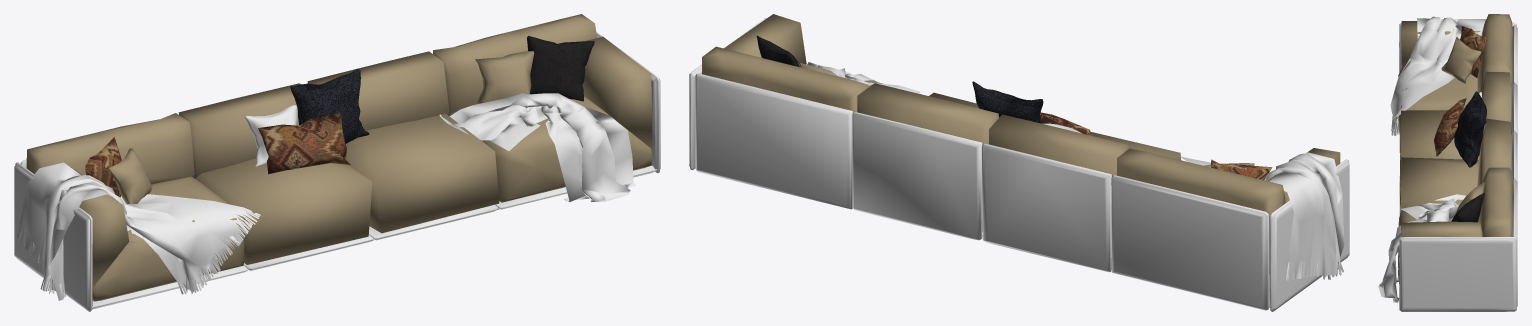
File: COUCH.fbx
3 renders of one model, left to right at view 1: azimuth 30°, elevation 25°; view 2: azimuth 150°, elevation 25°; view 3: azimuth 270°, elevation 25°, orthographic. The views are drawn at different scales.
Parts seen in each view (by area): view 1: Sofa, throw, Sofa.003, Sofa.004, throw.001, Sofa.001, Sofa.002, Sofa.005, cushion.004, Sofa.008, cushion.003, cushion.006 (+4 smaller); view 2: Sofa.006, Sofa.007, Sofa.004, Sofa.003, throw, Sofa.005, Sofa.002, cushion.006, Sofa, cushion.003, cushion.002, throw.001; view 3: Sofa.005, Sofa, throw, Sofa.004, Sofa.003, Sofa.002, throw.001, Sofa.001, cushion.006, cushion.001, cushion.004, Sofa.006 (+4 smaller).
Part boxes in pixels (<box>): Sofa: <box>195,114,499,264</box>; throw: <box>17,162,260,300</box>; Sofa.003: <box>178,51,449,178</box>; Sofa.004: <box>26,14,596,184</box>; throw.001: <box>439,93,635,201</box>; Sofa.001: <box>92,96,651,301</box>; Sofa.002: <box>70,36,652,285</box>; Sofa.005: <box>14,32,660,311</box>; cushion.004: <box>258,113,350,174</box>; Sofa.008: <box>92,165,657,309</box>; cushion.003: <box>527,35,594,101</box>; cushion.006: <box>290,68,369,143</box>; Sofa.006: <box>695,73,1269,310</box>; Sofa.007: <box>852,111,1111,272</box>; Sofa.004: <box>702,46,1285,274</box>; Sofa.003: <box>857,83,1128,176</box>; throw: <box>1179,152,1344,280</box>; Sofa.005: <box>689,18,1349,311</box>; Sofa.002: <box>724,14,1340,202</box>; cushion.006: <box>972,81,1043,123</box>; Sofa: <box>929,92,1180,159</box>; cushion.003: <box>756,35,799,67</box>; cushion.002: <box>1211,159,1272,180</box>; throw.001: <box>807,62,920,93</box>; Sofa.005: <box>1399,22,1516,311</box>; Sofa: <box>1399,110,1478,212</box>; throw: <box>1390,16,1485,135</box>; Sofa.004: <box>1477,14,1512,236</box>; Sofa.003: <box>1477,71,1511,186</box>; Sofa.002: <box>1401,21,1482,237</box>; throw.001: <box>1378,194,1465,302</box>; Sofa.001: <box>1398,66,1511,283</box>; cushion.006: <box>1454,91,1486,167</box>; cushion.001: <box>1441,37,1481,83</box>; cushion.004: <box>1434,98,1466,156</box>; Sofa.006: <box>1511,24,1517,306</box>.
Bounding box in the file's own units: 385 × 83.27 × 101.
Materials: 10 (3 with a texture image).
